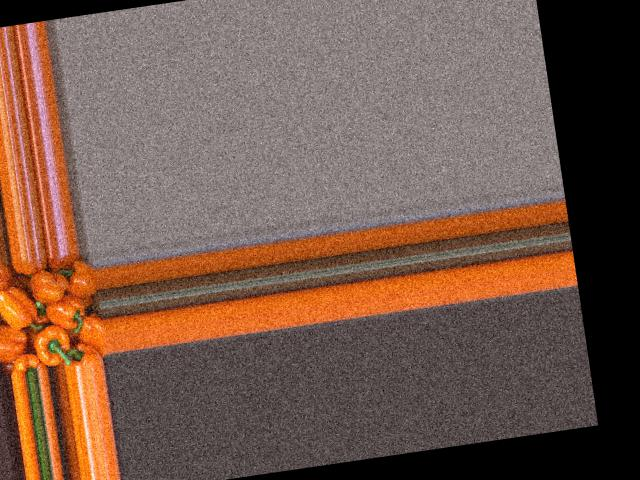bell_pepper: (39, 251, 85, 281)
